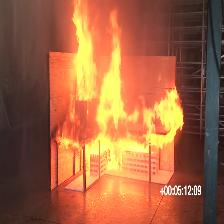fire: (53, 0, 184, 170)
